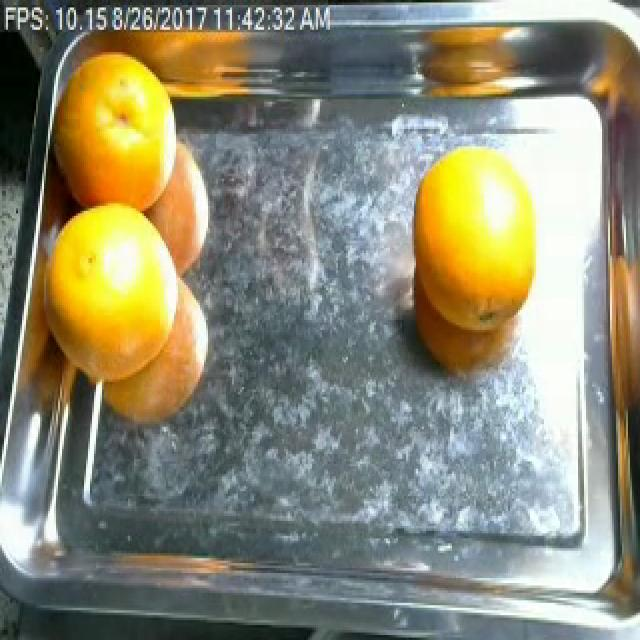Fruit: (404, 129, 556, 327), (408, 22, 532, 97)
